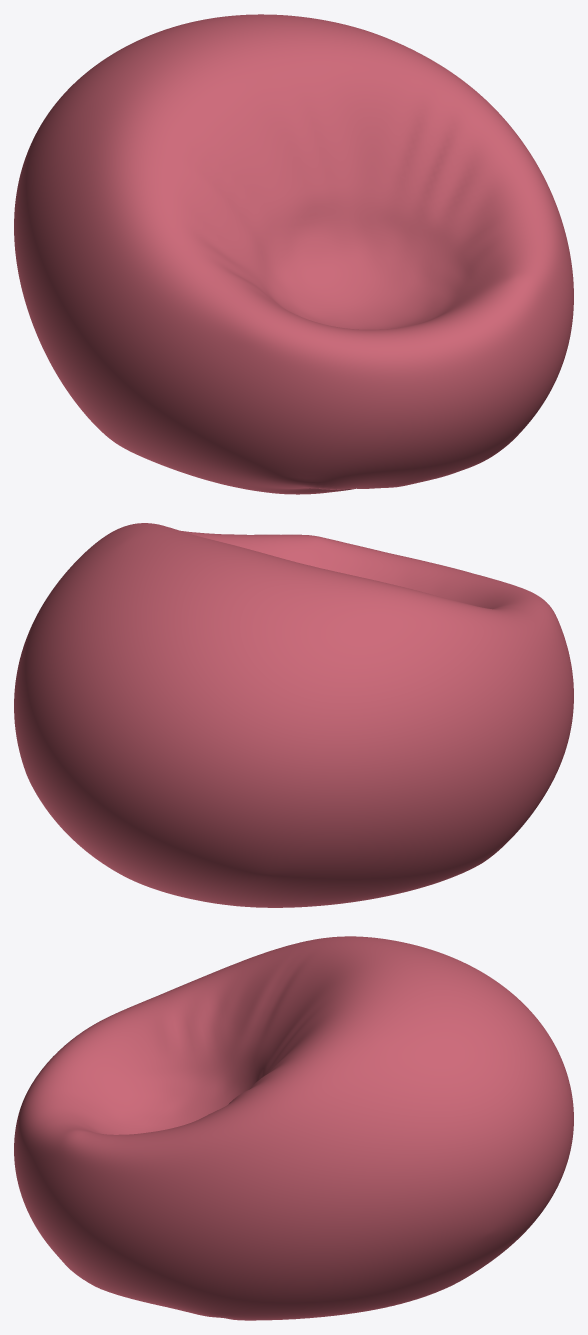
File: bagchair.fbx
3 renders of one model, top to bottom at view 1: azimuth 30°, elevation 25°; view 2: azimuth 150°, elevation 25°; view 3: azimuth 270°, elevation 25°, orthographic. The views are drawn at different scales.
Visible parts, largest first — view 1: Куб; view 2: Куб; view 3: Куб.
Boxes of the visible parts, x1,y1,x2,y2 form: Куб: (14,14,573,494); Куб: (14,523,573,907); Куб: (14,936,573,1320).
Bounding box in the file's own units: 466 × 302 × 552.
